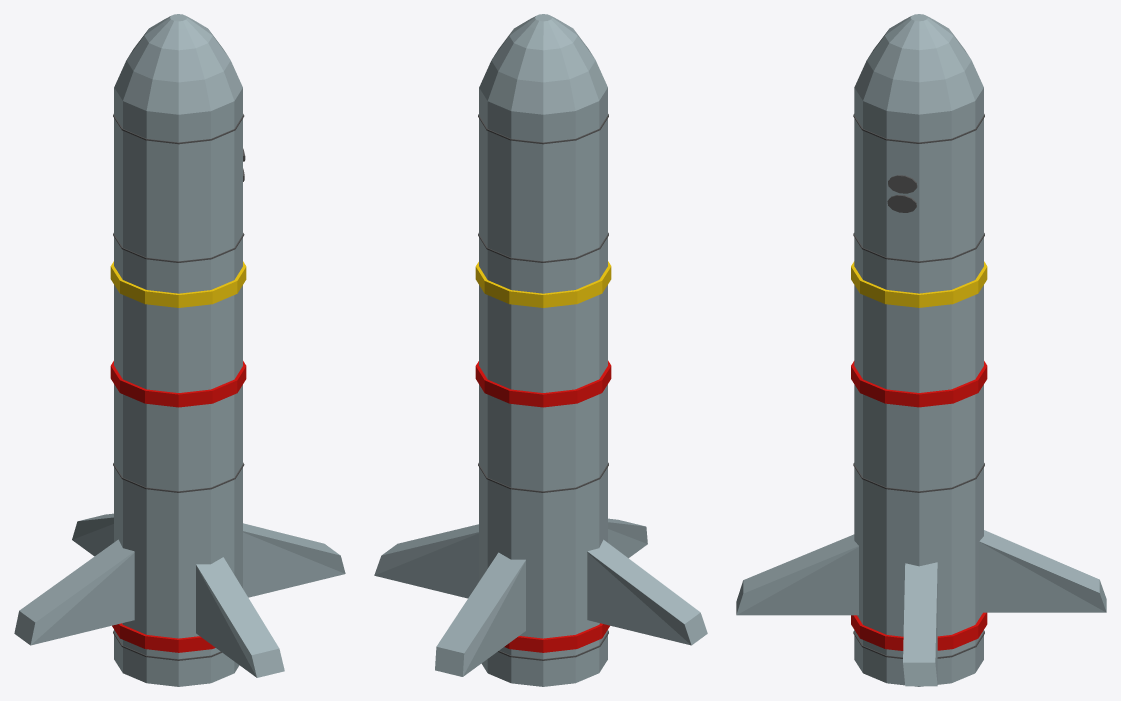
File: missile_iron_dome.obj
The picture shows the model from 3 angles, left to right: view 1: azimuth 30°, elevation 25°; view 2: azimuth 150°, elevation 25°; view 3: azimuth 270°, elevation 25°; orthographic projection.
Parts seen in each view (by area): view 1: Node; view 2: Node; view 3: Node.
Boxes of the visible parts, x1,y1,x2,y2 form: Node: (14, 14, 345, 686); Node: (374, 14, 707, 686); Node: (736, 14, 1106, 686).
Size of the model in its own units: 0.1798 by 0.3488 by 0.1823.
